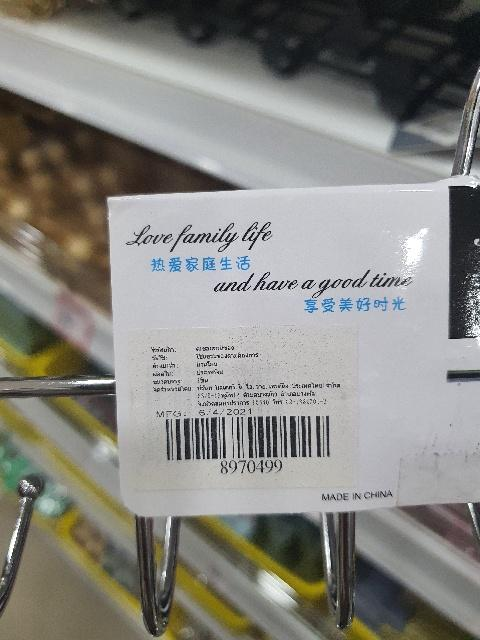Barcode: (154, 412, 338, 475)
